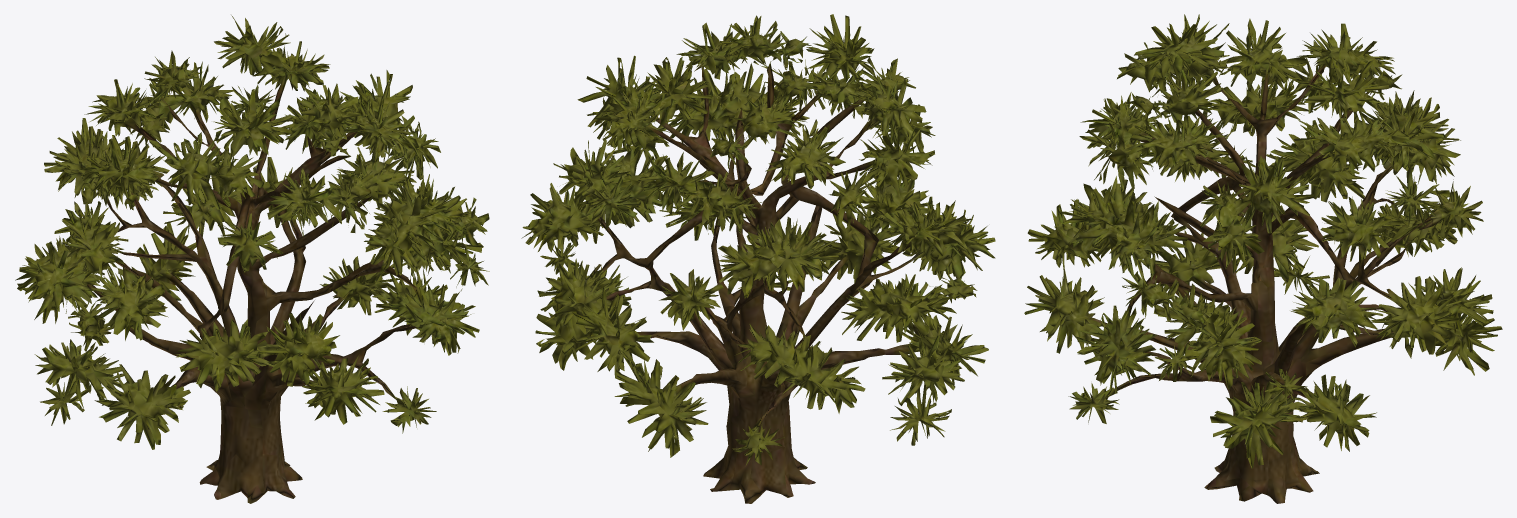
File: OrientalCorkOak.glb
3 renders of one model, left to right at view 1: azimuth 30°, elevation 25°; view 2: azimuth 150°, elevation 25°; view 3: azimuth 270°, elevation 25°, orthographic. The views are drawn at different scales.
Visible parts, largest first — view 1: Mesh_0; view 2: Mesh_0; view 3: Mesh_0.
Boxes of the visible parts, x1,y1,x2,y2 form: Mesh_0: (15,15,489,503); Mesh_0: (521,14,995,503); Mesh_0: (1024,14,1502,503).
Bounding box in the file's own units: 1.01 × 1 × 0.9772.
Materials: 1 (1 with a texture image).
